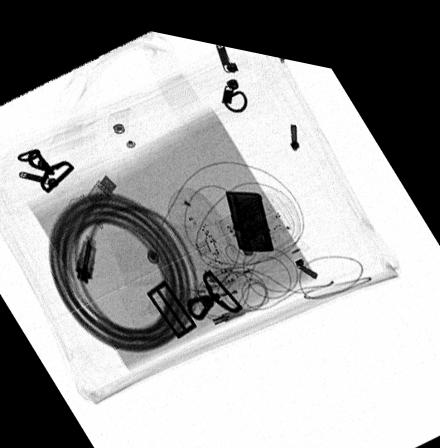Lighter: (224, 179, 275, 241)
